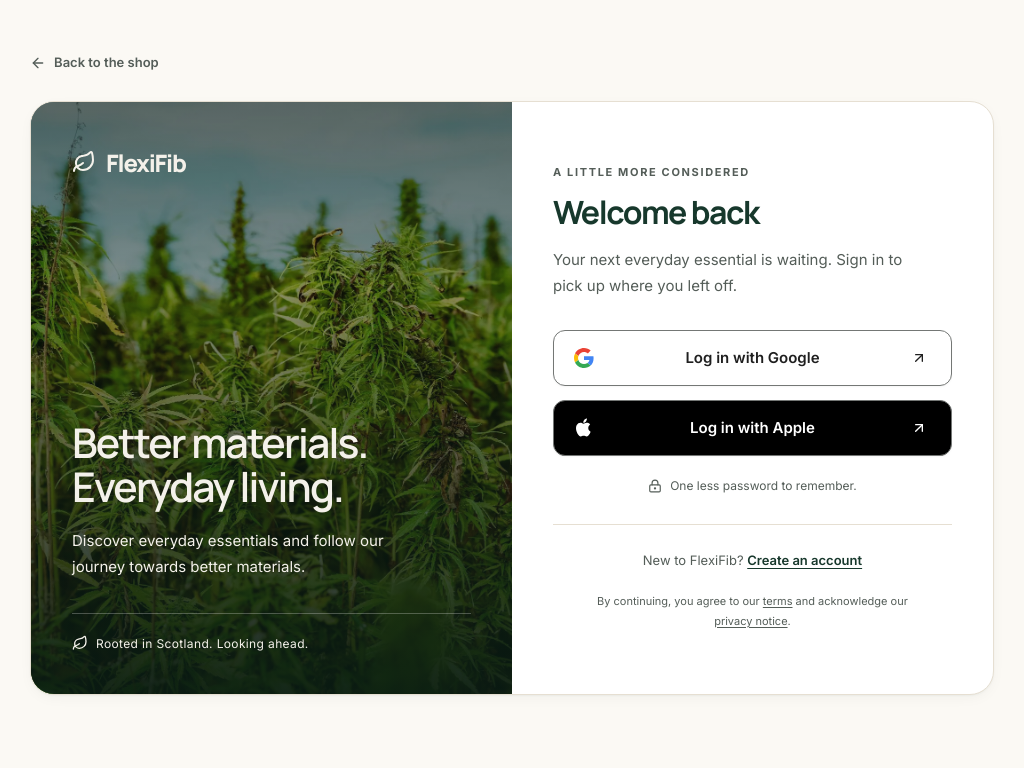
Test: social account options › handles a network failure without leaving the buttons stuck
Click the button "Log in with Apple" at coordinates (752, 428), box [553, 400, 952, 456]
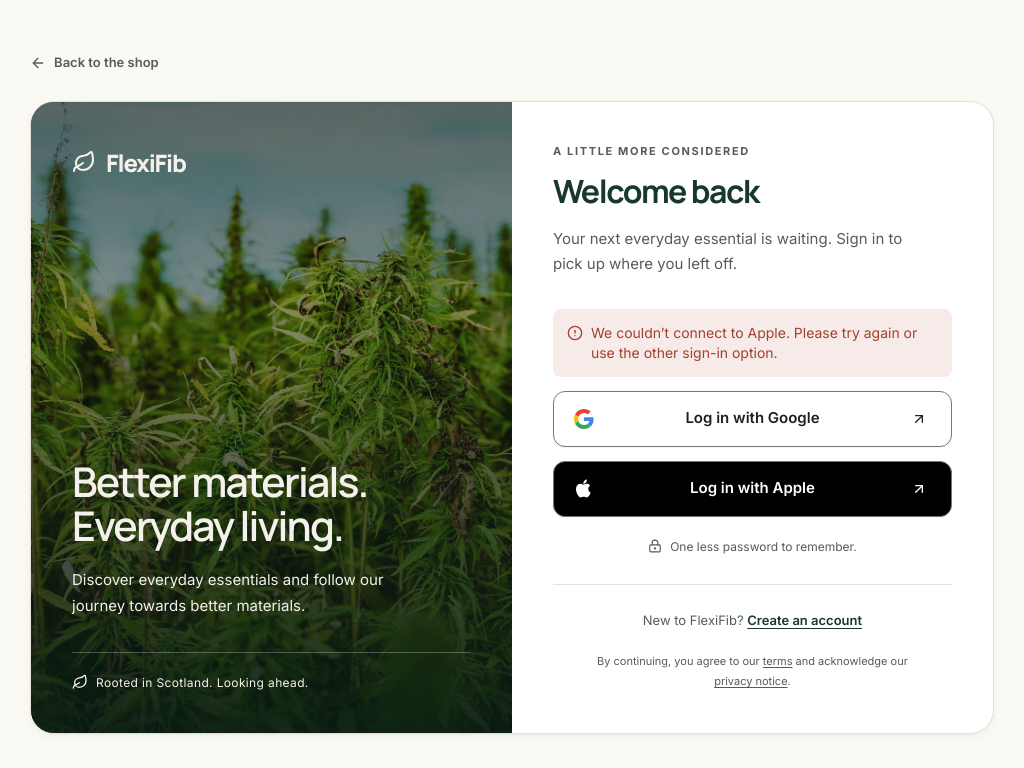
Expected: the button "Log in with Apple" is enabled, [553, 461, 952, 517]
Expected: the message shows "couldn’t connect to Apple", [591, 324, 917, 361]
